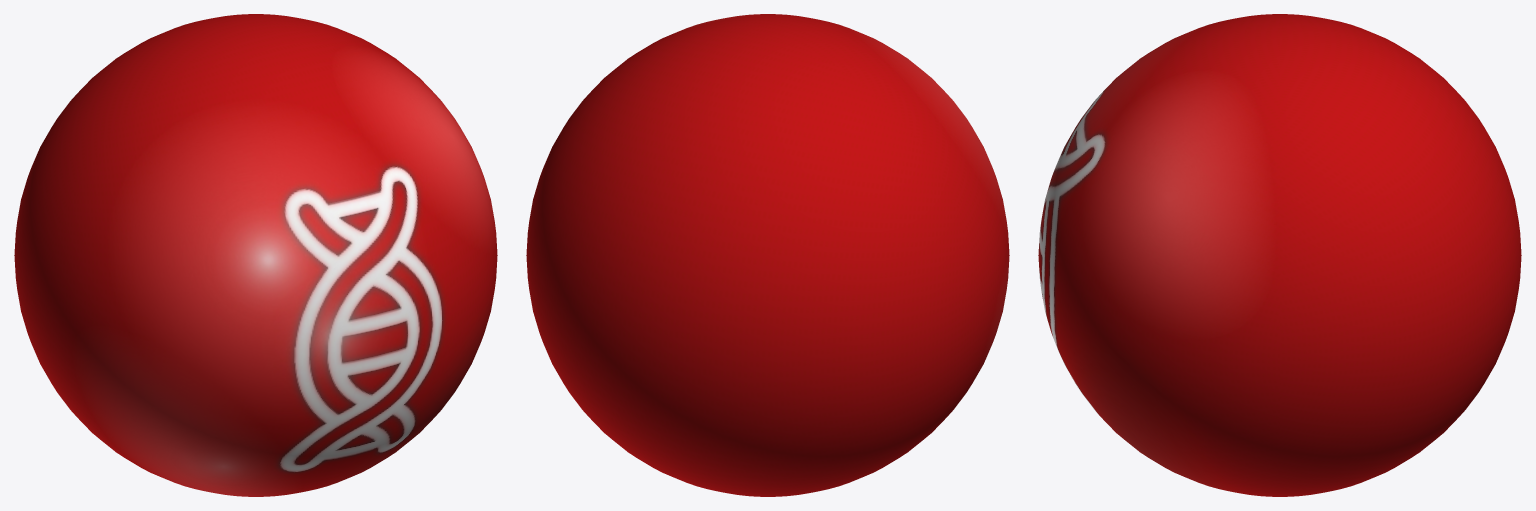
File: boton-esfera-investigacion-estatico.gltf
3 views of the same model, side by side, from view 1: azimuth 30°, elevation 25°; view 2: azimuth 150°, elevation 25°; view 3: azimuth 270°, elevation 25° (orthographic).
Visible parts, largest first — view 1: Sphere002; view 2: Sphere002; view 3: Sphere002.
Part boxes in pixels (x1,y1,x2,y2): Sphere002: (14, 14, 497, 496); Sphere002: (526, 14, 1009, 496); Sphere002: (1038, 14, 1521, 496).
Bounding box in the file's own units: 0.0359 × 0.0359 × 0.0359.
1 material, 1 textured.
